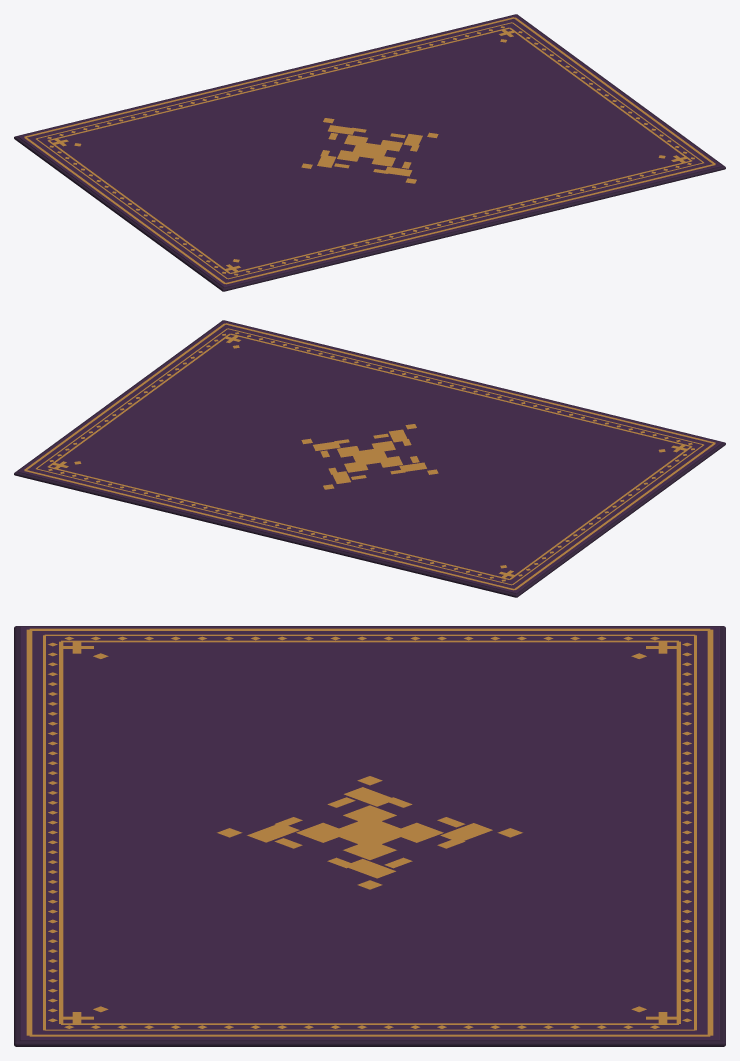
File: living-rug.glb
3 renders of one model, top to bottom at view 1: azimuth 30°, elevation 25°; view 2: azimuth 150°, elevation 25°; view 3: azimuth 270°, elevation 25°, orthographic. The views are drawn at different scales.
Parts seen in each view (by area): view 1: living_rug_pivot_Mesh; view 2: living_rug_pivot_Mesh; view 3: living_rug_pivot_Mesh.
Boxes of the visible parts, box(x1,y1,x2,y2) form: living_rug_pivot_Mesh: box(14, 14, 725, 291); living_rug_pivot_Mesh: box(14, 320, 725, 597); living_rug_pivot_Mesh: box(14, 626, 725, 1046).
Bounding box in the file's own units: 6.3 × 0.0435 × 4.54.
